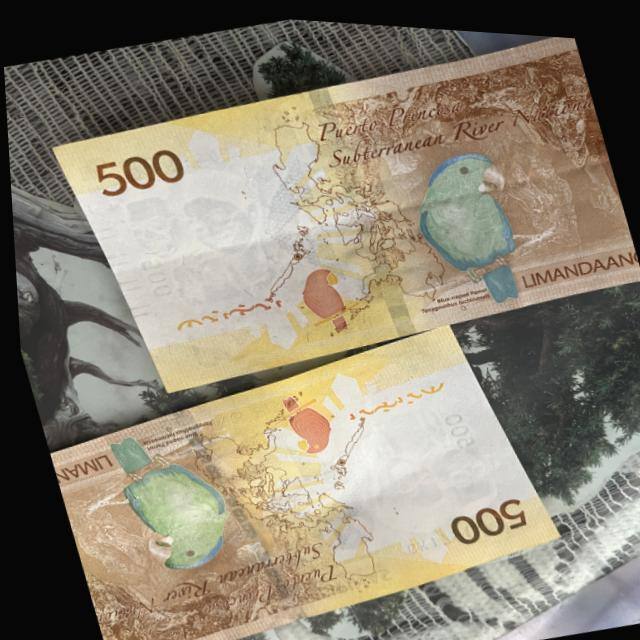500_big_parrot: (73, 416, 243, 585), (389, 134, 549, 311)
500_parrot_watermark: (287, 252, 374, 339), (258, 382, 335, 457)
value_watermark: (128, 249, 175, 300), (431, 399, 477, 448)
watermark: (317, 379, 506, 535), (98, 159, 277, 314)
